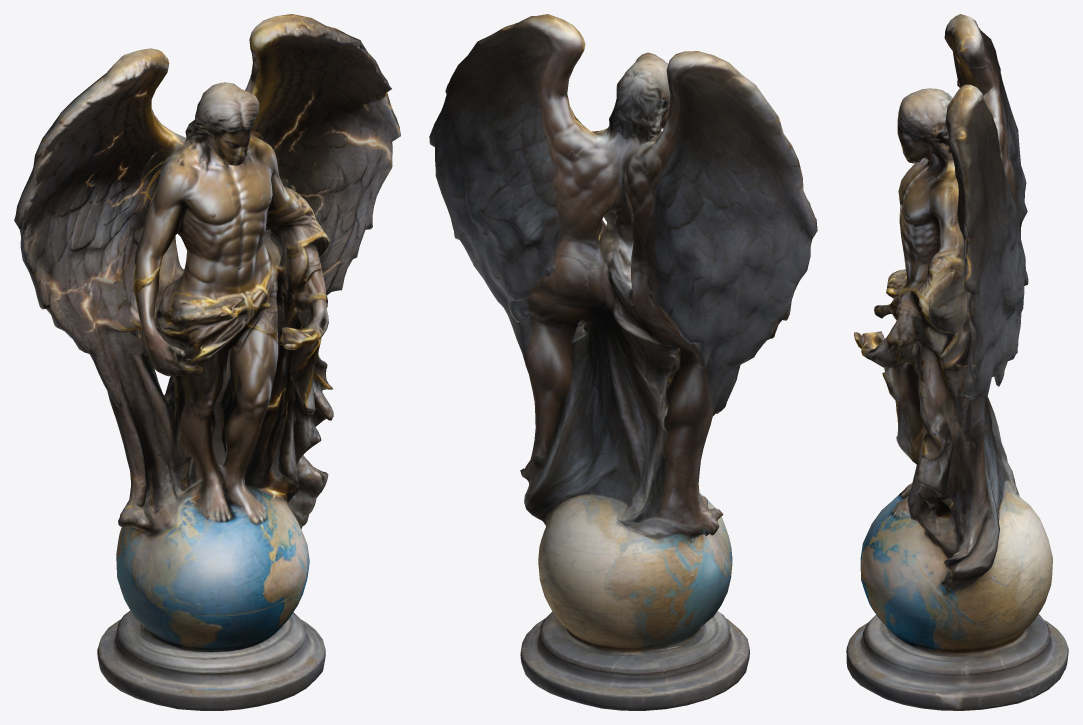
The model's file is sculpted_statue_depic_1225212323.fbx.
The picture shows the model from 3 angles, left to right: view 1: azimuth 30°, elevation 25°; view 2: azimuth 150°, elevation 25°; view 3: azimuth 270°, elevation 25°; orthographic projection. The views are drawn at different scales.
Parts seen in each view (by area): view 1: Mesh_0; view 2: Mesh_0; view 3: Mesh_0.
Part boxes in pixels (x1,y1,x2,y2): Mesh_0: (14, 14, 400, 710); Mesh_0: (429, 14, 817, 710); Mesh_0: (846, 14, 1068, 710).
Bounding box in the file's own units: 128 × 200 × 65.58.
1 material, 1 textured.
